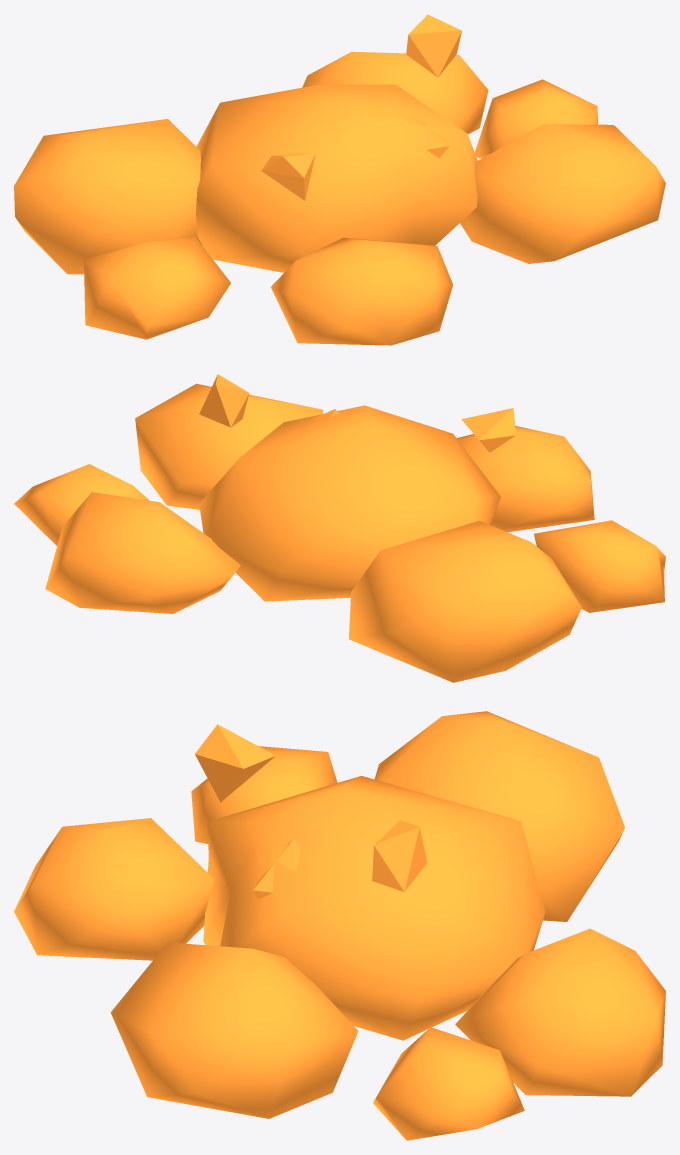
The model's file is rock_rubble.glb.
3 views of the same model, one above another, from view 1: azimuth 30°, elevation 25°; view 2: azimuth 150°, elevation 25°; view 3: azimuth 270°, elevation 25° (orthographic). The views are drawn at different scales.
Parts seen in each view (by area): view 1: nug; view 2: nug; view 3: nug.
Part boxes in pixels (x1,y1,x2,y2): nug: (14, 14, 665, 345); nug: (14, 374, 665, 682); nug: (14, 711, 665, 1140).
Size of the model in its own units: 1.27 by 0.3573 by 0.9753.
